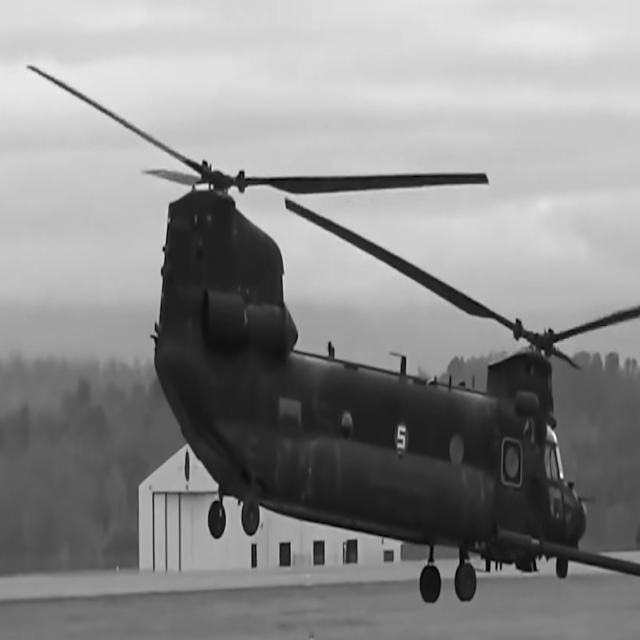Helicopter: (31, 68, 640, 601)
